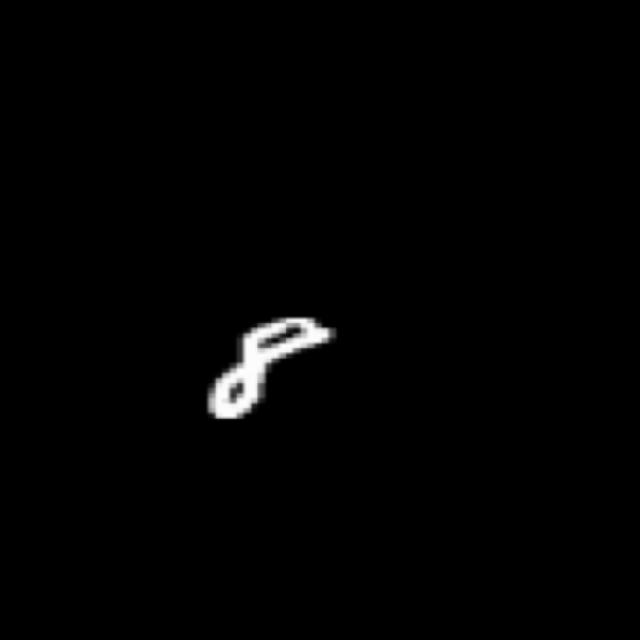eight -8-: (196, 314, 338, 424)
